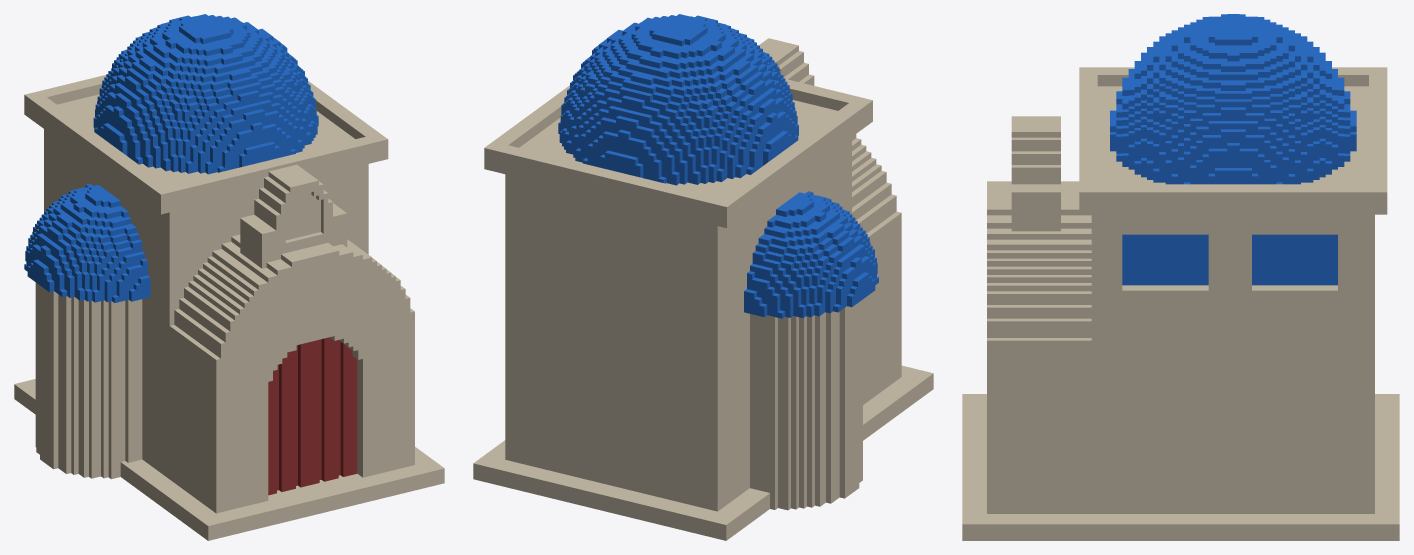
Rendered from Background_C_house_06.FBX.
3 views of the same model, side by side, from view 1: azimuth 30°, elevation 25°; view 2: azimuth 150°, elevation 25°; view 3: azimuth 270°, elevation 25° (orthographic). The views are drawn at different scales.
Parts seen in each view (by area): view 1: Background_C-15; view 2: Background_C-15; view 3: Background_C-15.
Boxes of the visible parts, x1,y1,x2,y2 form: Background_C-15: [14, 14, 444, 540]; Background_C-15: [473, 14, 933, 540]; Background_C-15: [962, 14, 1399, 540].
Bounding box in the file's own units: 6.1 × 8 × 7.1.
Materials: 1 (1 with a texture image).
